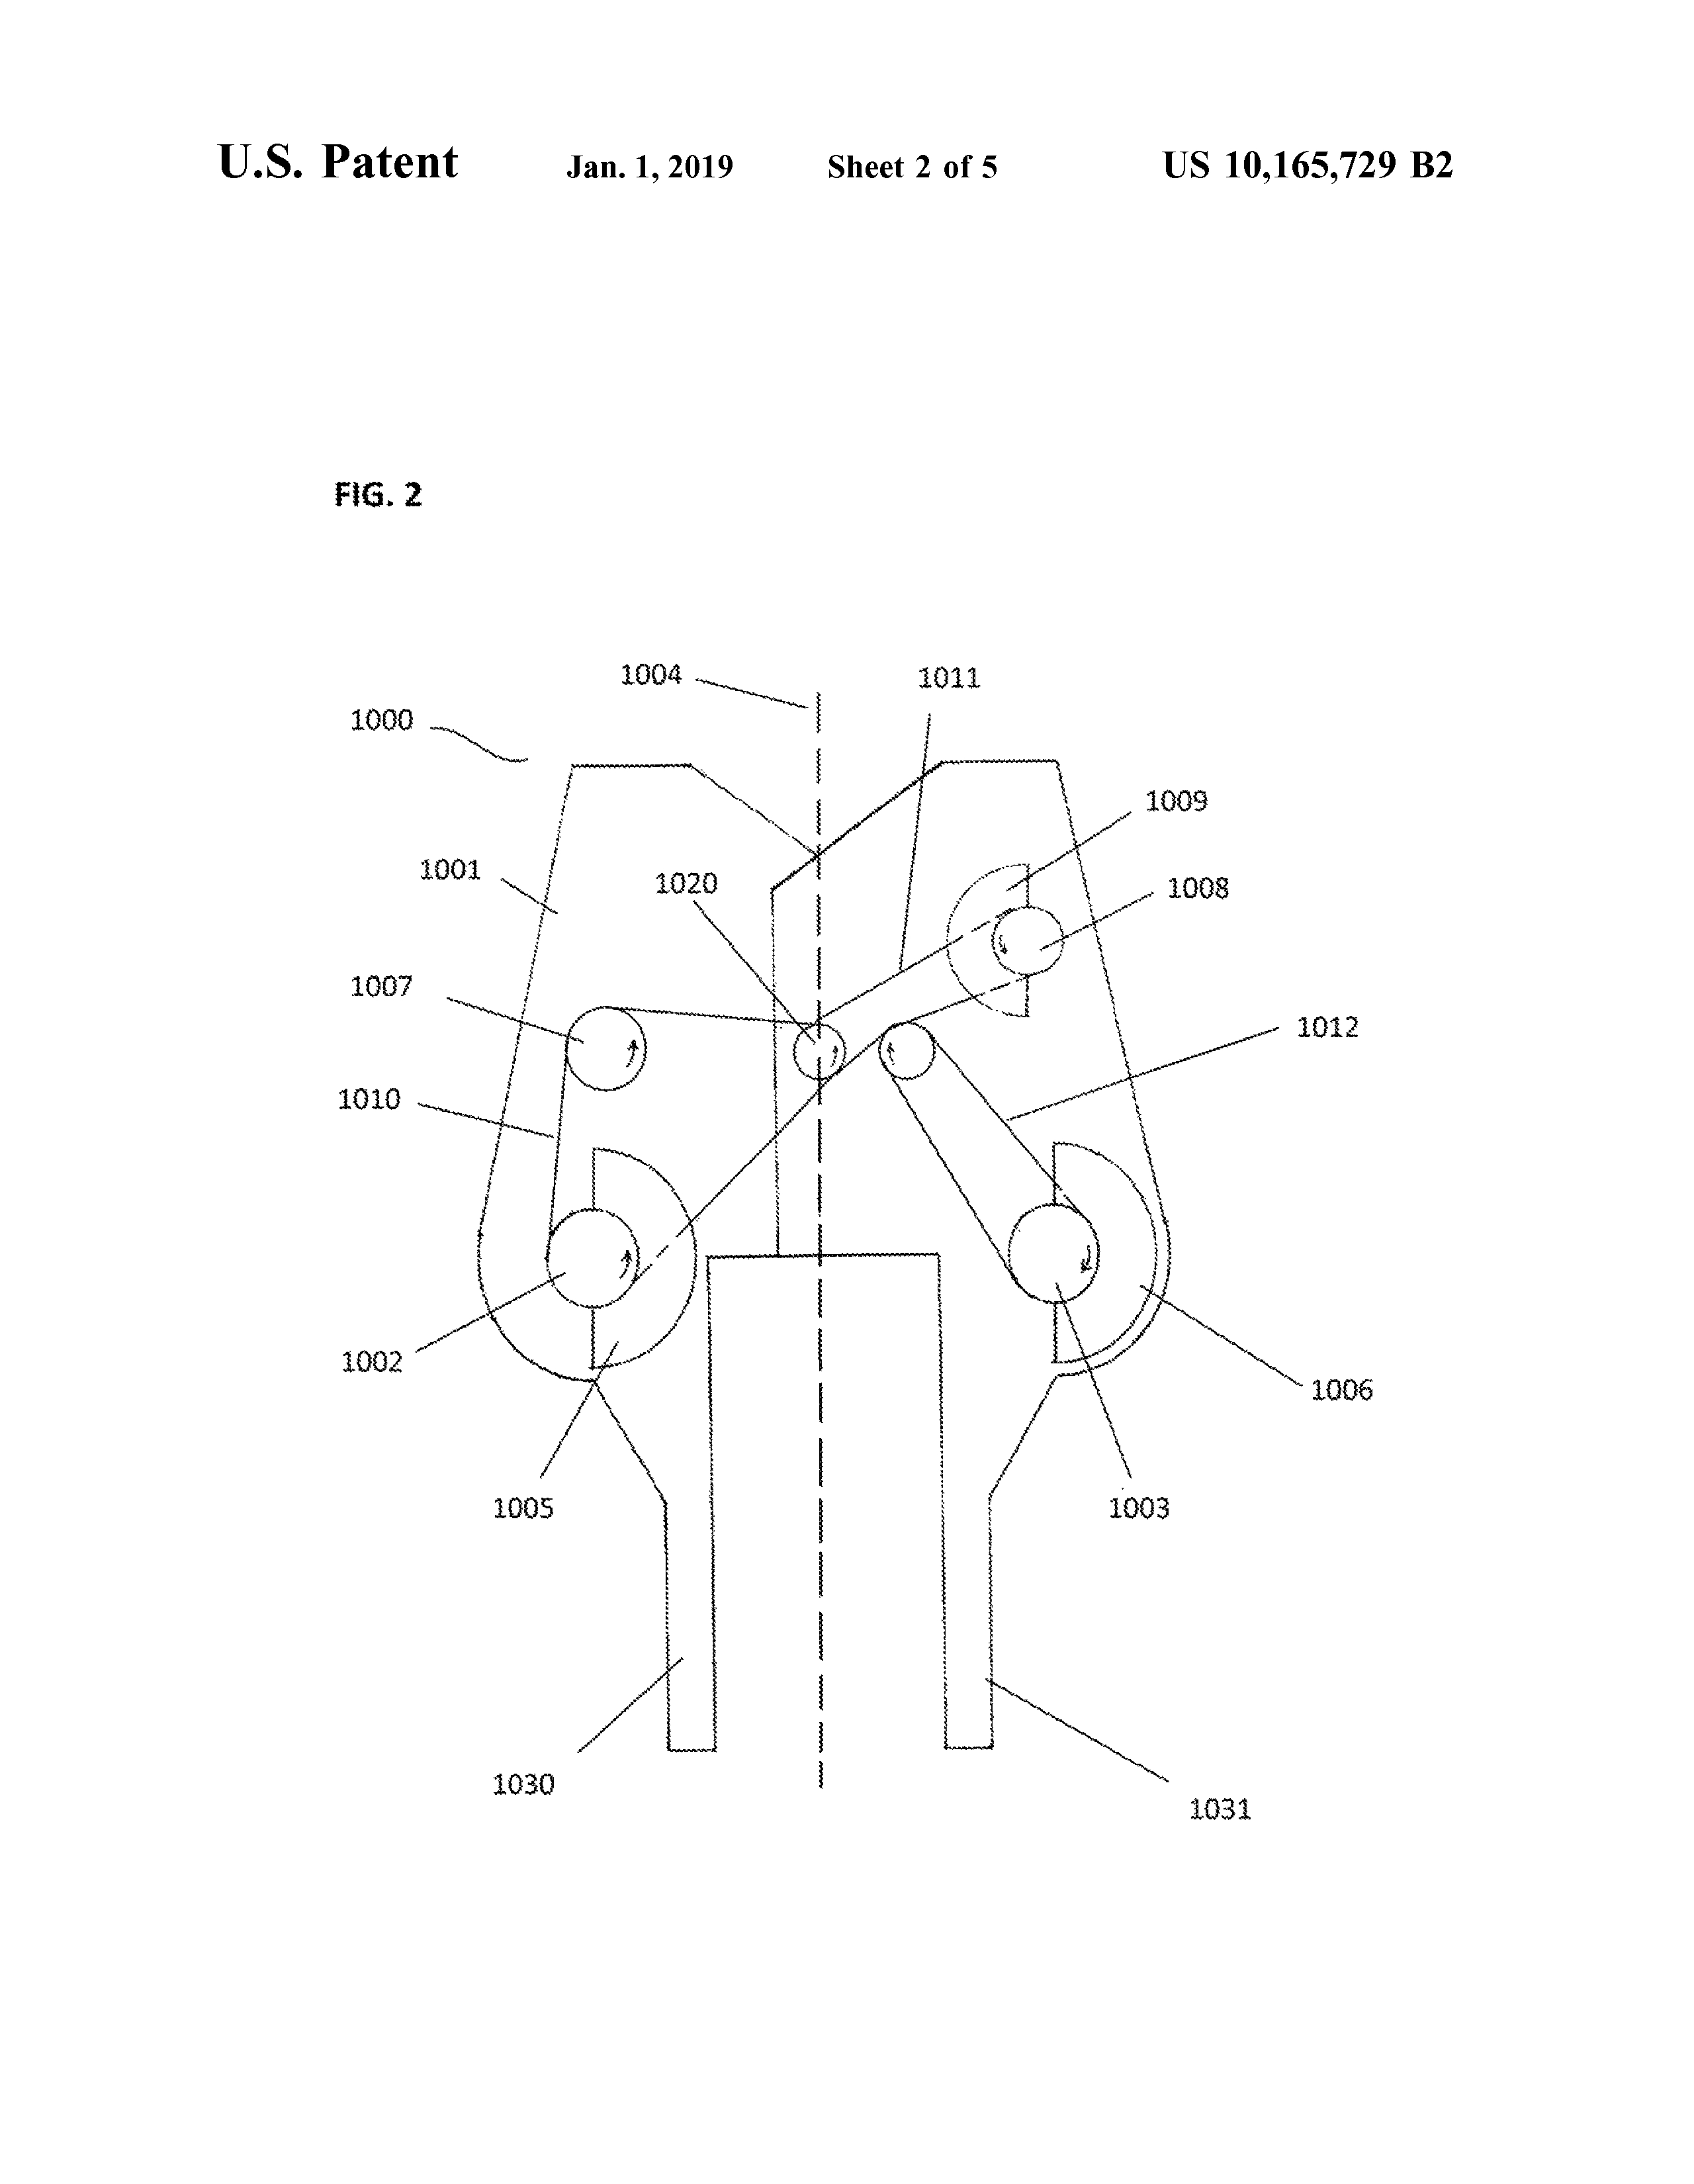patent image: (296, 466, 1400, 1879)
